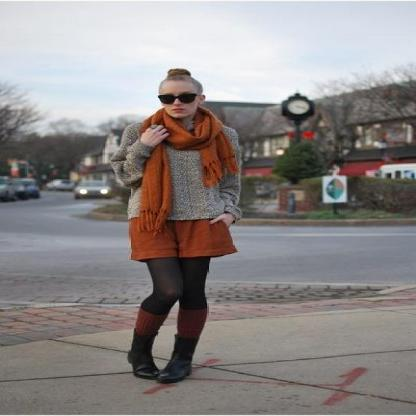jacket: (104, 122, 261, 223)
shoe: (125, 348, 191, 384)
shorts: (129, 216, 236, 260)
sunglass: (158, 93, 186, 104)
